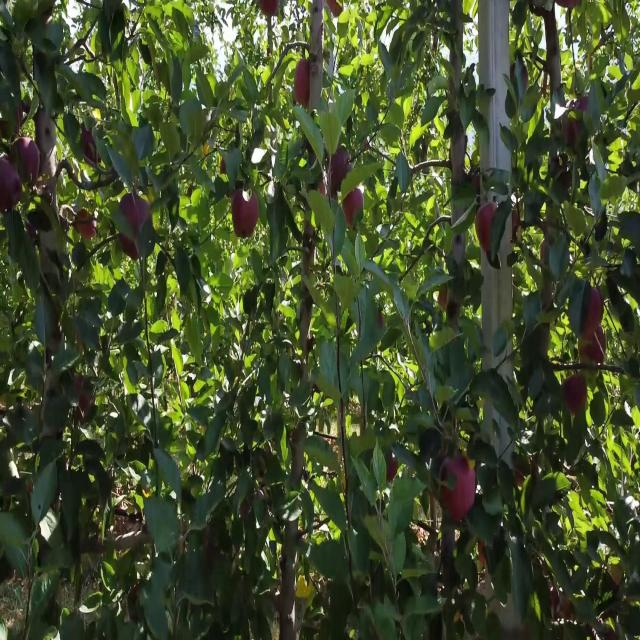apple: (440, 455, 477, 524), (120, 191, 151, 231), (232, 191, 260, 233), (0, 163, 23, 213), (580, 327, 607, 366), (476, 206, 497, 256), (564, 376, 588, 418), (16, 142, 40, 180), (584, 291, 605, 332), (328, 149, 349, 188), (344, 191, 364, 228), (296, 63, 312, 107), (516, 455, 536, 489), (552, 590, 572, 622), (76, 213, 96, 242), (120, 234, 139, 261), (84, 127, 98, 162), (260, 0, 280, 20), (564, 120, 580, 144), (320, 177, 336, 199), (80, 391, 94, 416), (388, 455, 400, 484), (512, 206, 521, 244), (328, 0, 343, 20), (576, 92, 589, 114), (540, 241, 549, 263), (440, 291, 449, 311), (76, 376, 85, 393)
